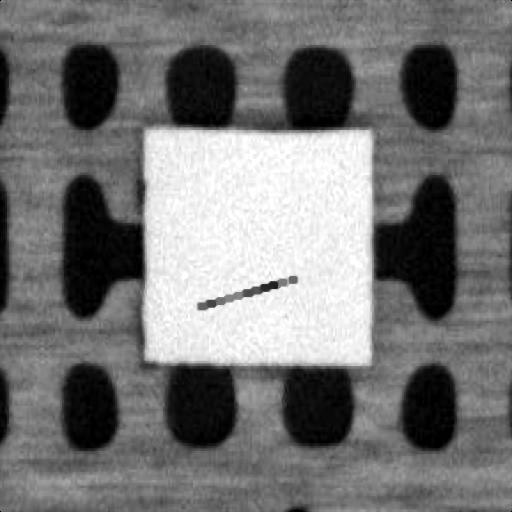DIE_INK: (190, 266, 294, 310)
